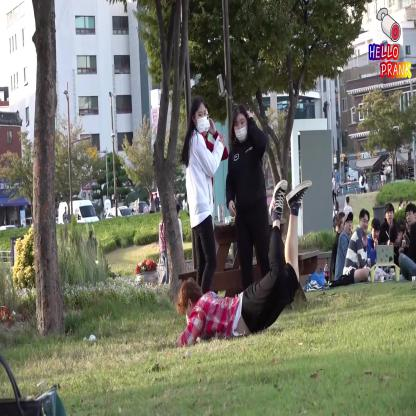Fall_Down: (176, 179, 312, 349)
